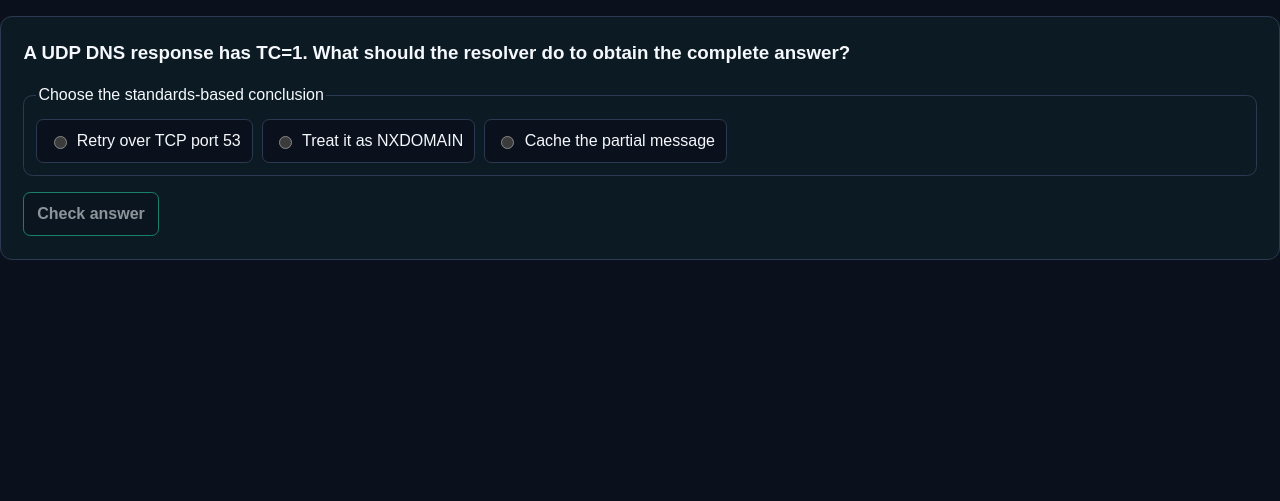
it: DNS Pro experiences › returns immediate standards feedback with primary references
This screenshot has width=1280, height=501.
Click the radio button labelled "Retry over TCP port 53" at coordinates (60, 143), box top-left (54, 136), bottom-right (67, 150)
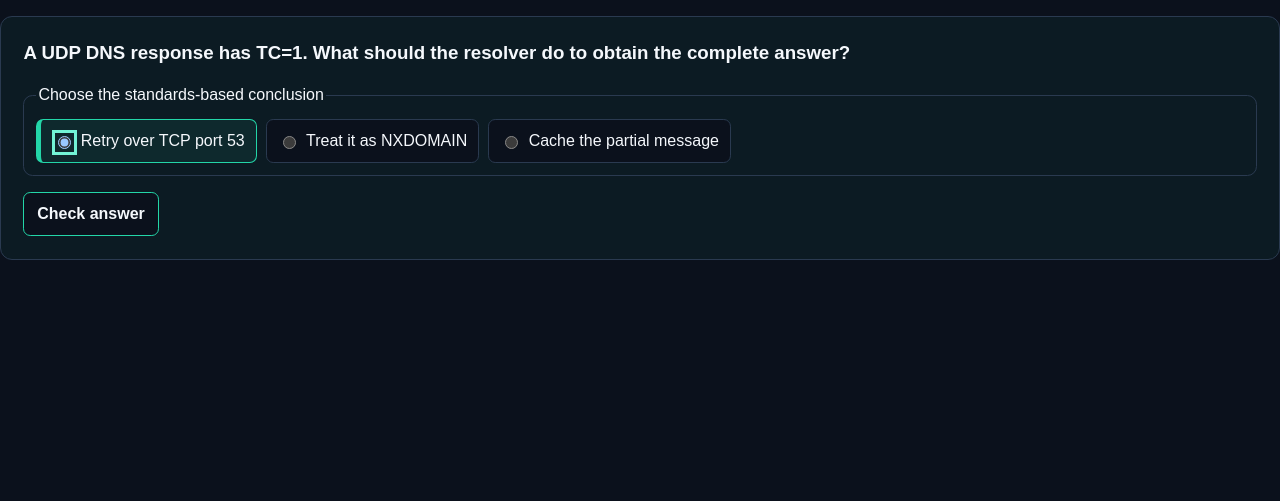
Click the button "Check answer" at coordinates (91, 214), box top-left (23, 192), bottom-right (159, 236)
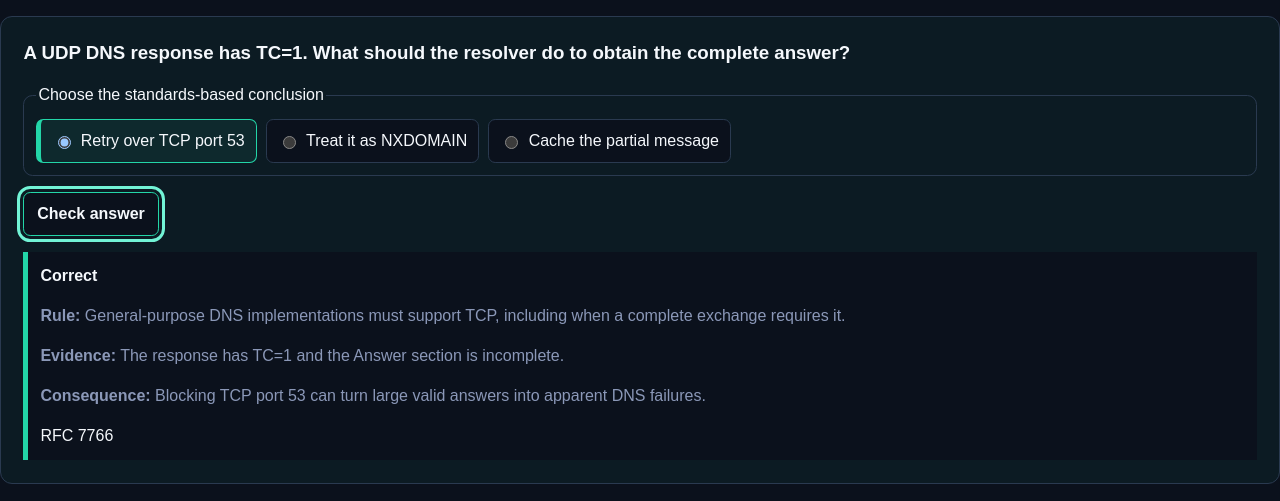
Expected: the message shows "Rule", top-left (40, 308), bottom-right (80, 324)
Expected: the message shows "evidence", top-left (40, 348), bottom-right (116, 364)
Expected: the message shows "consequence", top-left (40, 388), bottom-right (151, 404)
